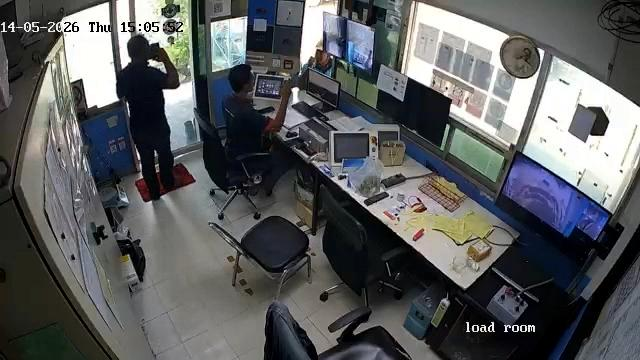Head: (226, 60, 258, 101), (123, 31, 149, 64)
People: (109, 34, 191, 202), (218, 58, 291, 215)
Phone: (257, 106, 276, 115), (149, 43, 158, 61)
